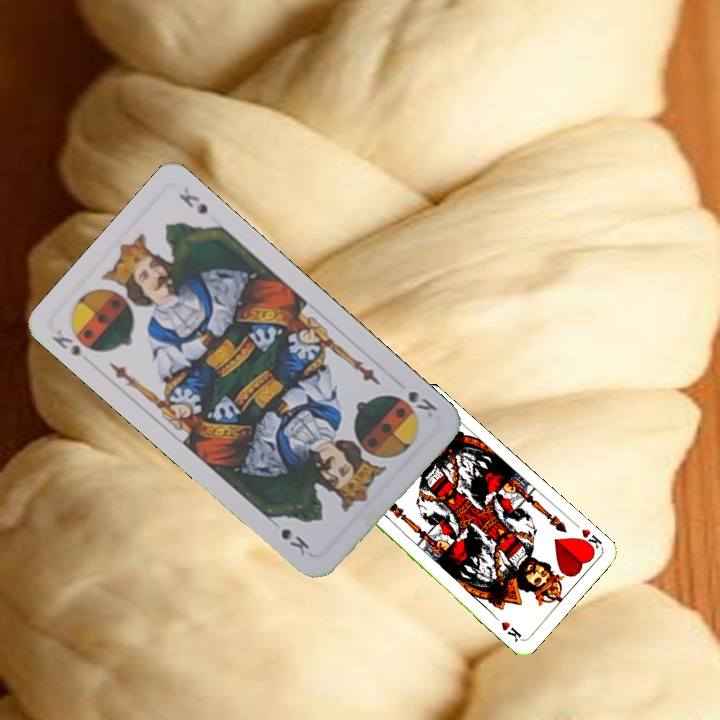HK: (574, 525, 605, 555)
SK: (403, 387, 440, 421), (48, 325, 84, 359)
